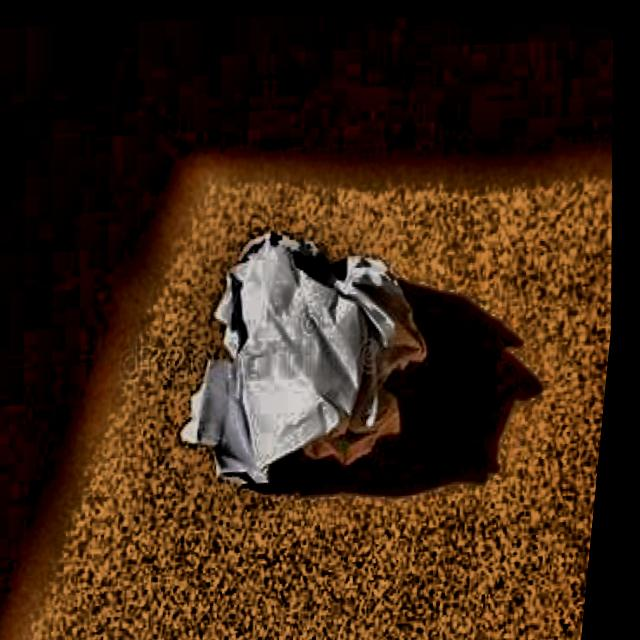Paper: (166, 199, 459, 520)
